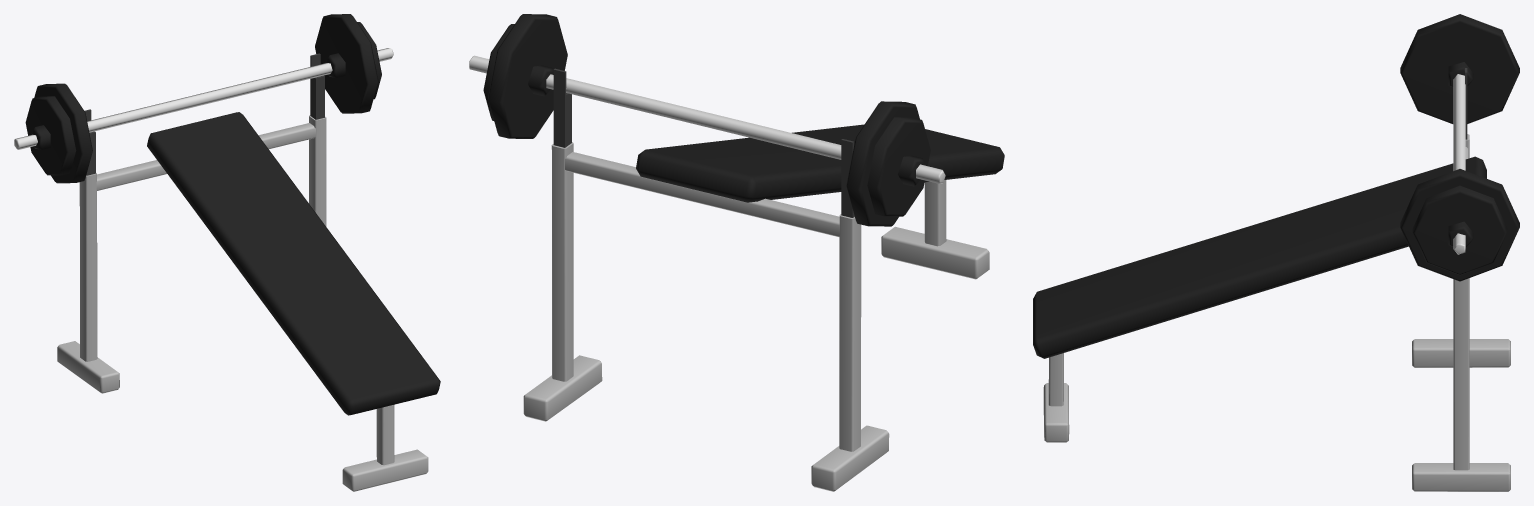
The model's file is training_019.fbx.
3 renders of one model, left to right at view 1: azimuth 30°, elevation 25°; view 2: azimuth 150°, elevation 25°; view 3: azimuth 270°, elevation 25°, orthographic. The views are drawn at different scales.
Visible parts, largest first — view 1: training_019; view 2: training_019; view 3: training_019.
Part boxes in pixels (left/top/right/bottom): training_019: left=14, top=14, right=440, bottom=491; training_019: left=469, top=14, right=1004, bottom=491; training_019: left=1033, top=14, right=1519, bottom=491.
Bounding box in the file's own units: 171 × 173 × 130.
